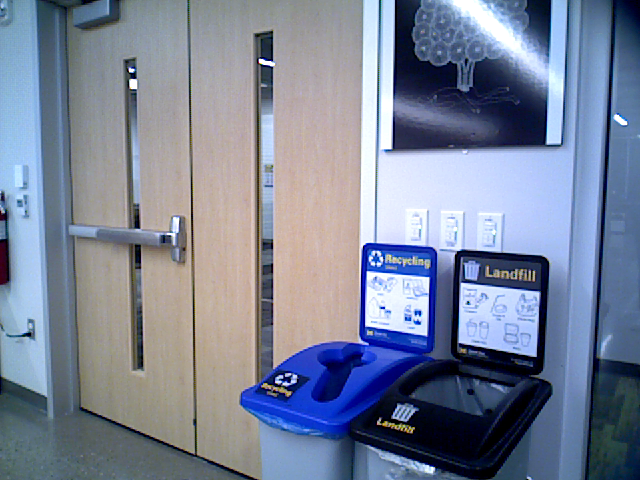painting1: (380, 1, 561, 150)
